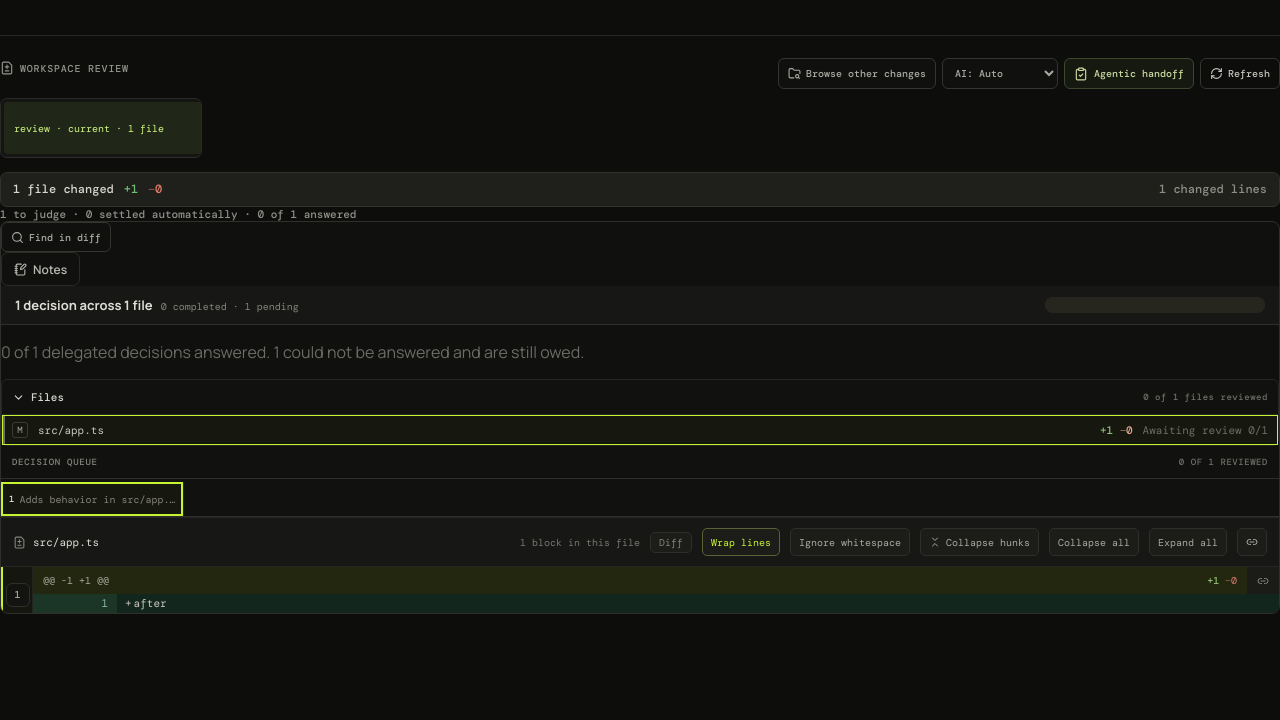
Scenario: WorkspaceDiffView decision queue › keeps the agentic handoff button visible without a linked run
The image size is (1280, 720).
Click the button "Agentic handoff" at (1129, 74), box [1064,58,1194,89]
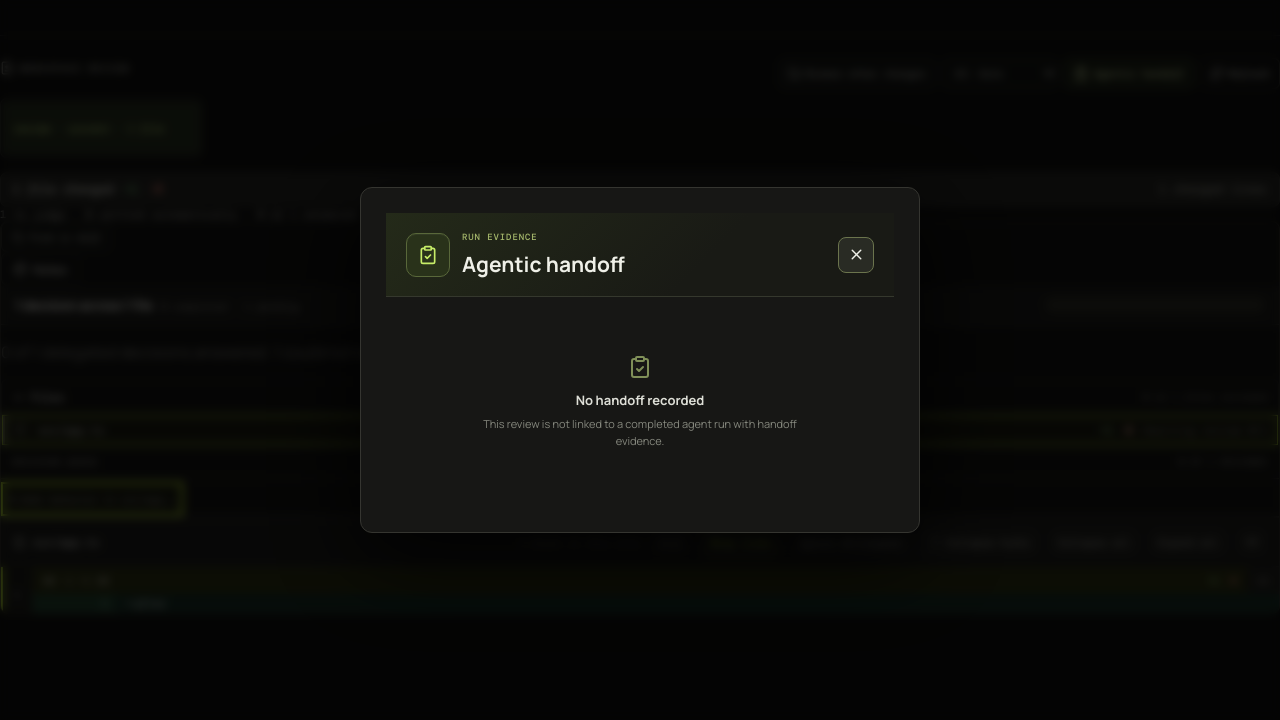
Expected: the text "No handoff recorded" is shown, [576,391,704,409]
